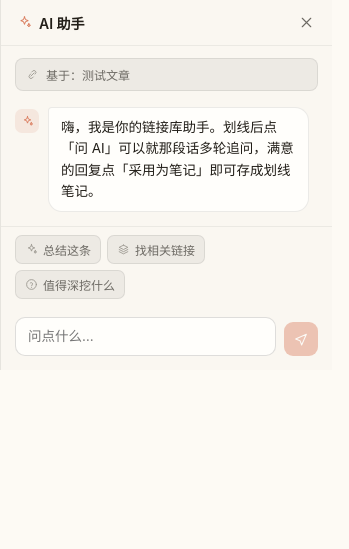
ChatSidebar › 新请求取消旧请求，并忽略旧回复
Type "第一个问题" into the text box with placeholder "问点什么…" at (146, 337), box [15,317,276,356]
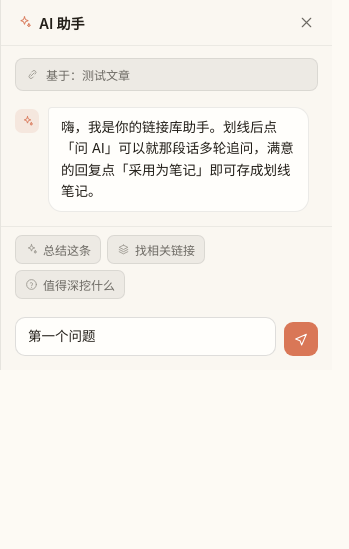
Press Enter in the text box with placeholder "问点什么…", box [15,317,276,356]
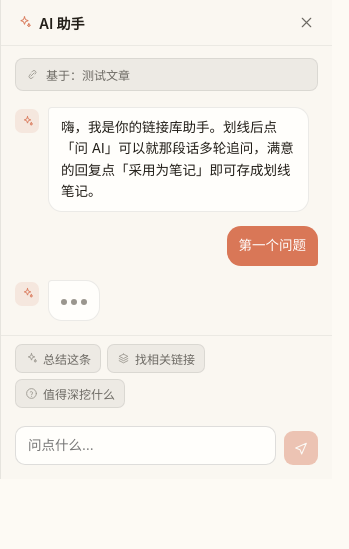
Type "第二个问题" into the text box with placeholder "问点什么…" at (146, 445), box [15,426,276,465]
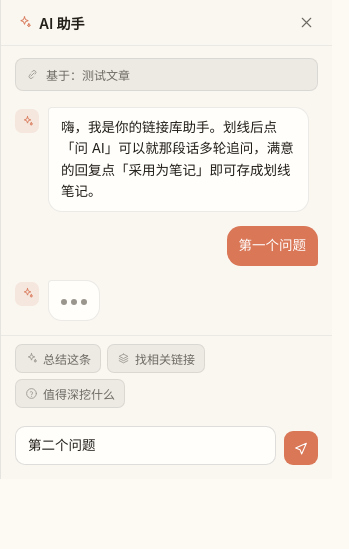
Press Enter in the text box with placeholder "问点什么…", box [15,426,276,465]
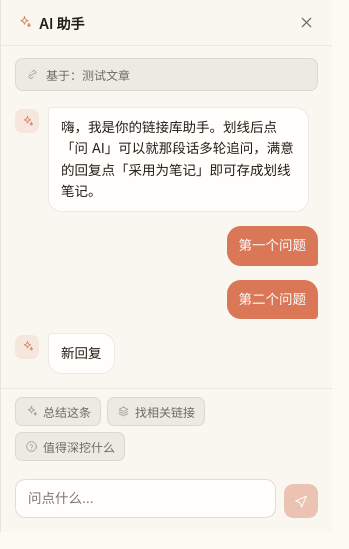
Now the text "新回复" is shown, box [61,343,102,364]
